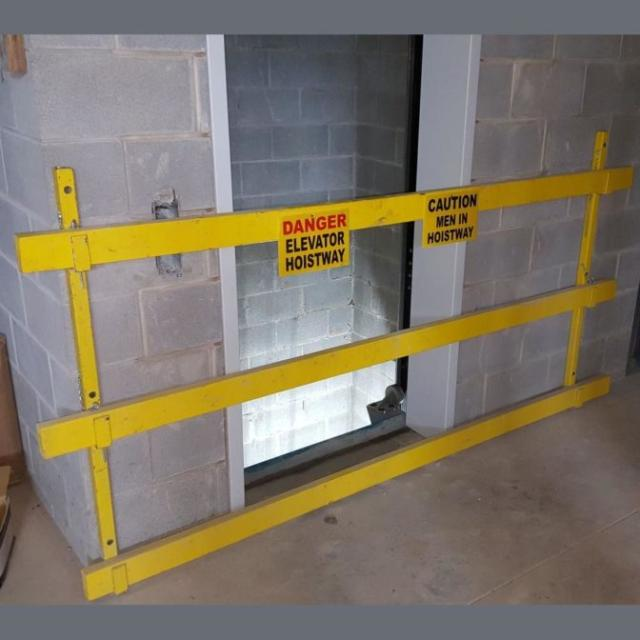cone: (13, 126, 634, 597)
